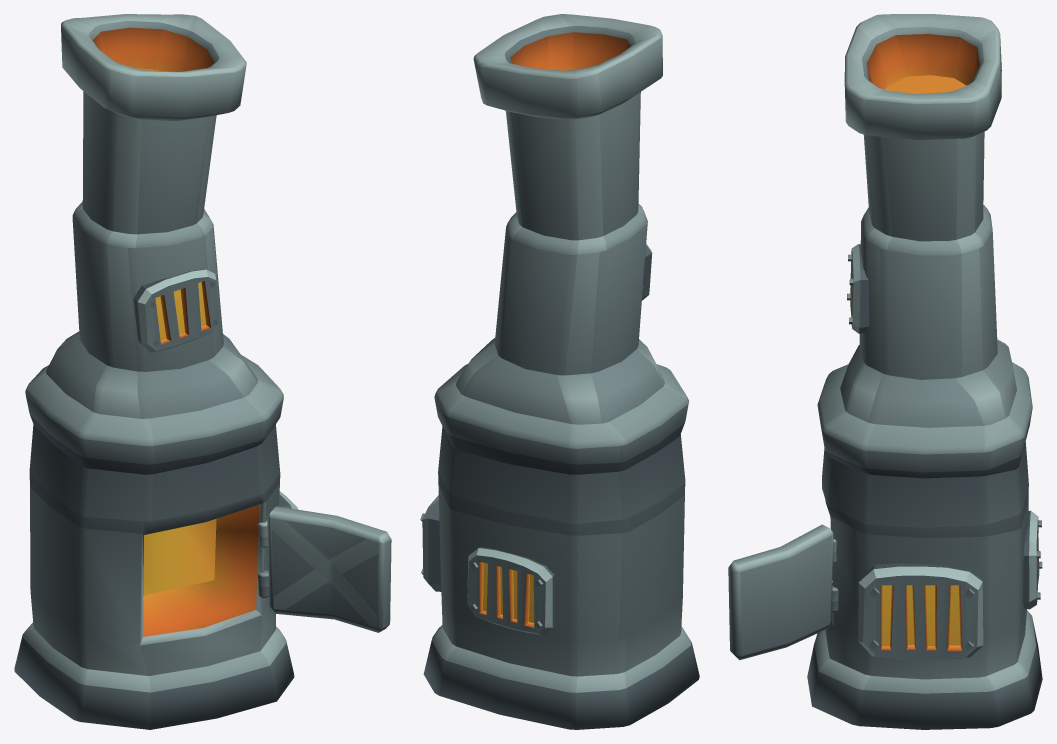
File: smithy_oven.fbx
3 renders of one model, left to right at view 1: azimuth 30°, elevation 25°; view 2: azimuth 150°, elevation 25°; view 3: azimuth 270°, elevation 25°, orthographic. The views are drawn at different scales.
Parts seen in each view (by area): view 1: smithy_oven; view 2: smithy_oven; view 3: smithy_oven.
Boxes of the visible parts, left/top/right/bottom form: smithy_oven: left=14, top=14, right=391, bottom=729; smithy_oven: left=420, top=14, right=699, bottom=729; smithy_oven: left=728, top=14, right=1042, bottom=729.
Bounding box in the file's own units: 380 × 947 × 429.
